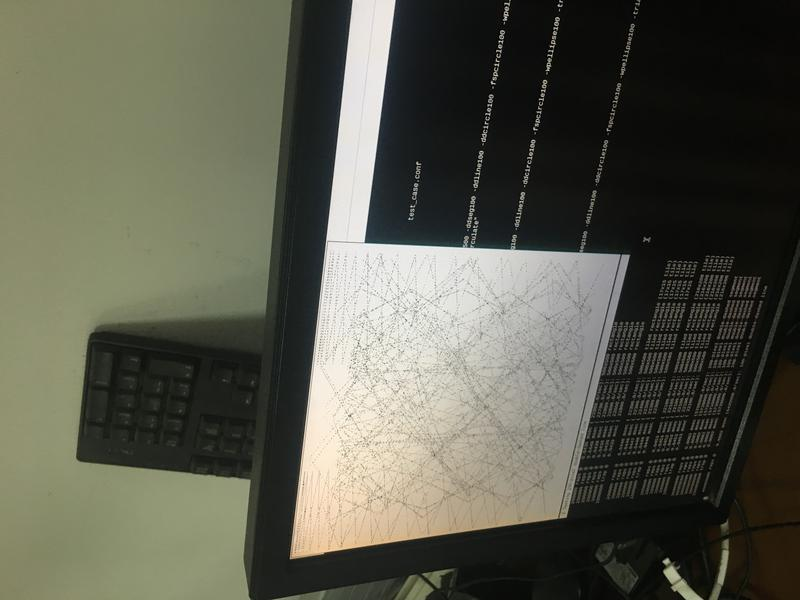xrandr_pass: (272, 232, 635, 546)
